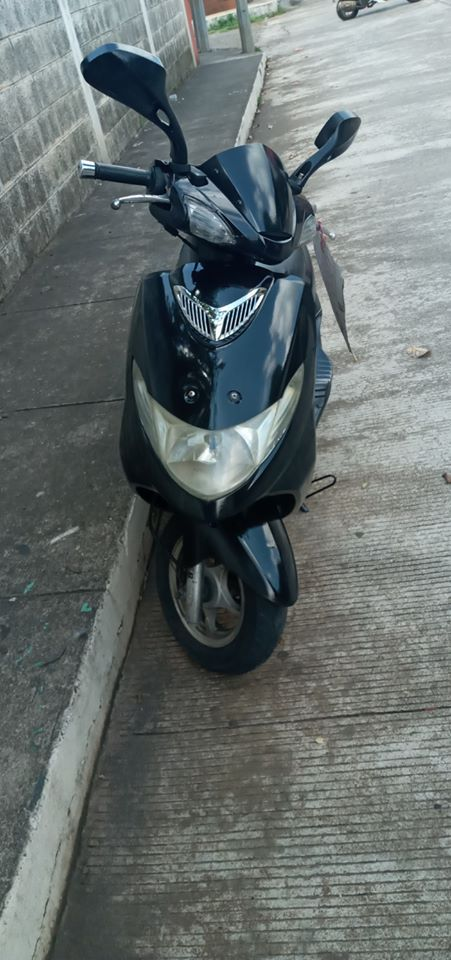moto: (60, 37, 374, 677)
